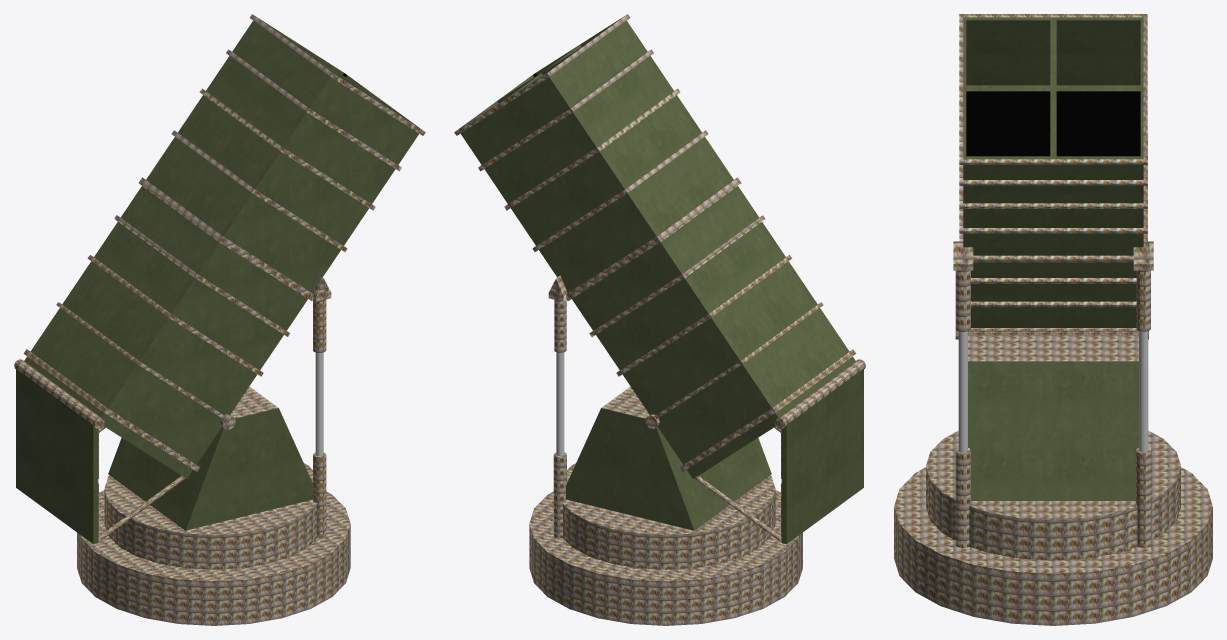
File: turret.FBX
The picture shows the model from 3 angles, left to right: view 1: azimuth 30°, elevation 25°; view 2: azimuth 150°, elevation 25°; view 3: azimuth 270°, elevation 25°; orthographic projection. The views are drawn at different scales.
Visible parts, largest first — view 1: Model; view 2: Model; view 3: Model.
Boxes of the visible parts, left/top/right/bottom form: Model: left=14, top=14, right=425, bottom=625; Model: left=454, top=14, right=865, bottom=625; Model: left=894, top=14, right=1212, bottom=625.
Bounding box in the file's own units: 216 × 316 × 155.
